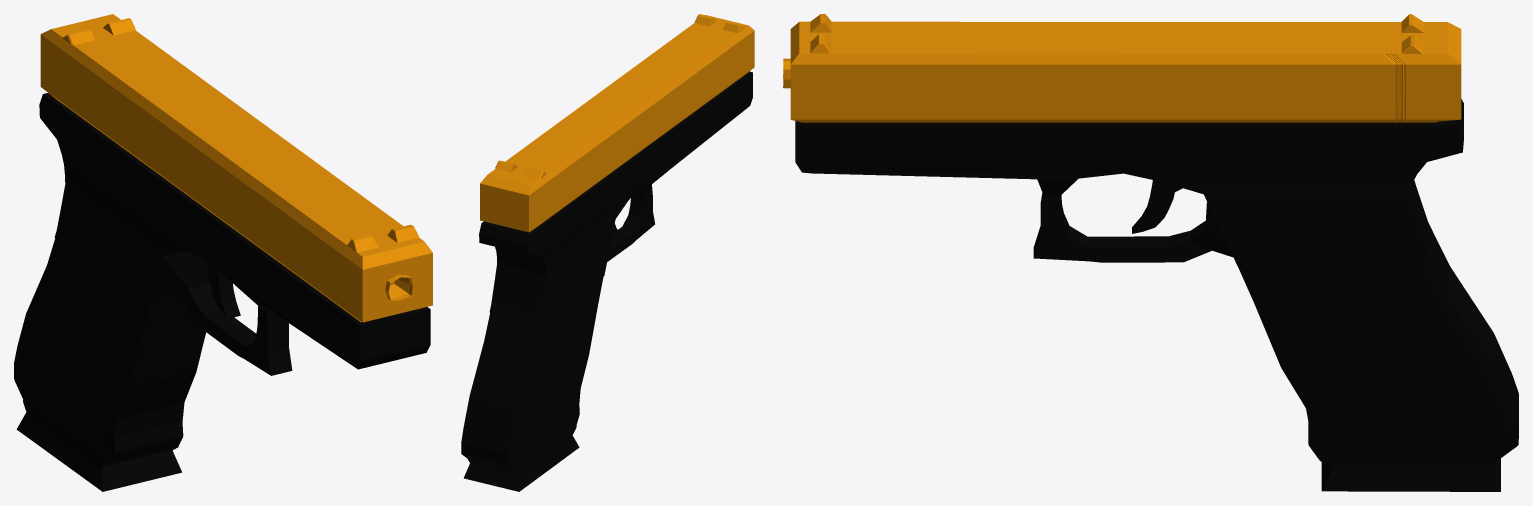
The model's file is ExportedBlenderFBXFile.fbx.
The picture shows the model from 3 angles, left to right: view 1: azimuth 30°, elevation 25°; view 2: azimuth 150°, elevation 25°; view 3: azimuth 270°, elevation 25°; orthographic projection. The views are drawn at different scales.
Parts seen in each view (by area): view 1: Cube.001, Cube; view 2: Cube.001, Cube; view 3: Cube.001, Cube.
Part boxes in pixels (bbox=[...]): Cube.001: bbox=[14, 93, 430, 491]; Cube: bbox=[40, 14, 432, 322]; Cube.001: bbox=[461, 71, 752, 491]; Cube: bbox=[480, 14, 754, 232]; Cube.001: bbox=[795, 99, 1518, 491]; Cube: bbox=[783, 14, 1461, 122].
Bounding box in the file's own units: 0.6308 × 3.22 × 4.85.
